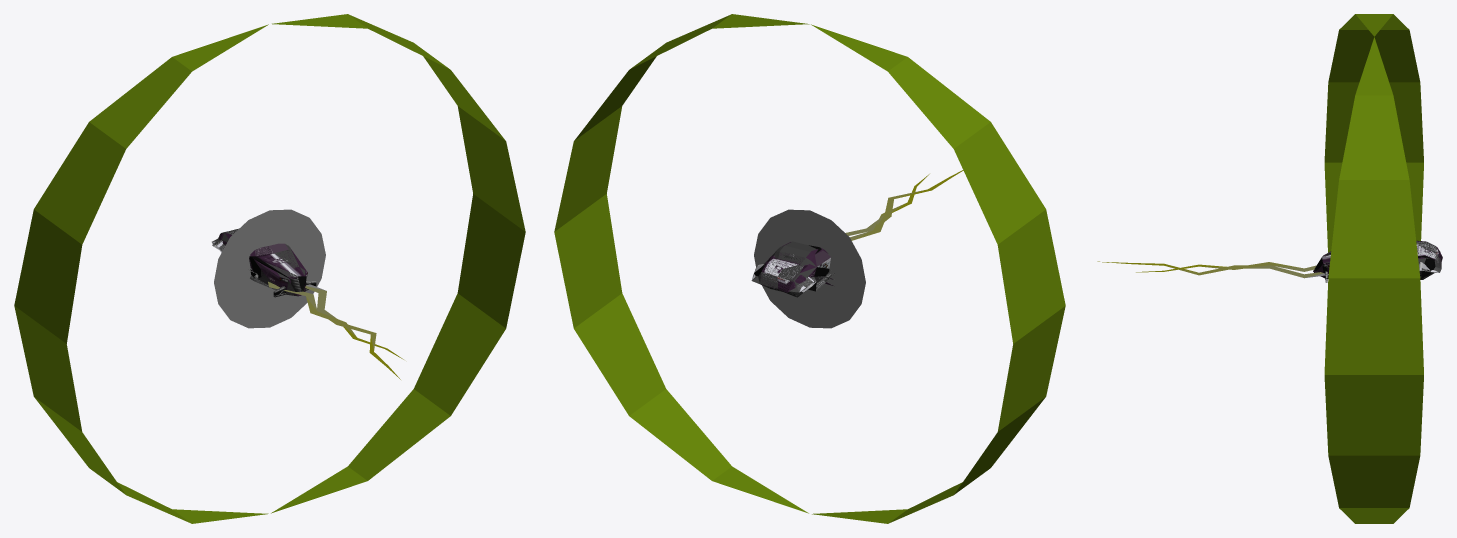
File: v82_chrono_stinger.obj
The picture shows the model from 3 angles, left to right: view 1: azimuth 30°, elevation 25°; view 2: azimuth 150°, elevation 25°; view 3: azimuth 270°, elevation 25°; orthographic projection. The views are drawn at different scales.
Visible parts, largest first — view 1: v82_chrono_stinger_tmd_017, v82_chrono_stinger_tmd_016, v82_chrono_stinger_tmd_000, v82_chrono_stinger_tmd_001, v82_chrono_stinger_tmd_018, v82_chrono_stinger_tmd_021; view 2: v82_chrono_stinger_tmd_017, v82_chrono_stinger_tmd_016, v82_chrono_stinger_tmd_003, v82_chrono_stinger_tmd_004, v82_chrono_stinger_tmd_018; view 3: v82_chrono_stinger_tmd_017, v82_chrono_stinger_tmd_018, v82_chrono_stinger_tmd_021.
Boxes of the visible parts, <box> form: v82_chrono_stinger_tmd_017: <box>14,14,525,523</box>; v82_chrono_stinger_tmd_016: <box>214,209,325,328</box>; v82_chrono_stinger_tmd_000: <box>254,243,315,297</box>; v82_chrono_stinger_tmd_001: <box>250,246,316,296</box>; v82_chrono_stinger_tmd_018: <box>305,284,400,379</box>; v82_chrono_stinger_tmd_021: <box>268,281,403,359</box>; v82_chrono_stinger_tmd_017: <box>554,14,1065,523</box>; v82_chrono_stinger_tmd_016: <box>754,209,865,328</box>; v82_chrono_stinger_tmd_003: <box>751,241,829,295</box>; v82_chrono_stinger_tmd_004: <box>754,249,817,297</box>; v82_chrono_stinger_tmd_018: <box>845,170,963,235</box>; v82_chrono_stinger_tmd_017: <box>1324,14,1423,523</box>; v82_chrono_stinger_tmd_018: <box>1097,261,1328,278</box>; v82_chrono_stinger_tmd_021: <box>1136,262,1316,272</box>.
Bounding box in the file's own units: 9.82 × 10.02 × 6.82.
Materials: 57 (42 with a texture image).
